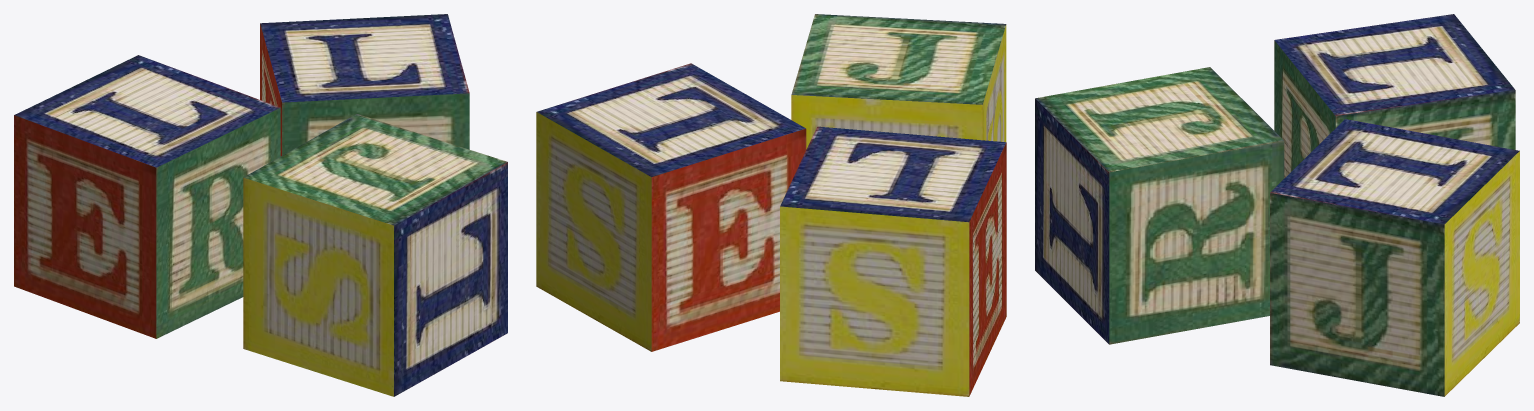
File: blocks.obj
3 renders of one model, left to right at view 1: azimuth 30°, elevation 25°; view 2: azimuth 150°, elevation 25°; view 3: azimuth 270°, elevation 25°, orthographic. The views are drawn at different scales.
Parts seen in each view (by area): view 1: Box003, Box001, Box002; view 2: Box002, Box001, Box003; view 3: Box002, Box003, Box001.
Part boxes in pixels (x1,y1,x2,y2): Box003: (243, 114, 507, 396); Box001: (14, 55, 280, 338); Box002: (260, 14, 469, 155); Box002: (536, 63, 806, 351); Box001: (780, 126, 1006, 396); Box003: (791, 14, 1006, 149); Box002: (1270, 119, 1519, 396); Box003: (1035, 67, 1284, 344); Box001: (1274, 14, 1515, 178).
Size of what is drawn, in the model's own units: 52.41 by 20 by 50.98.
6 materials, 6 textured.
